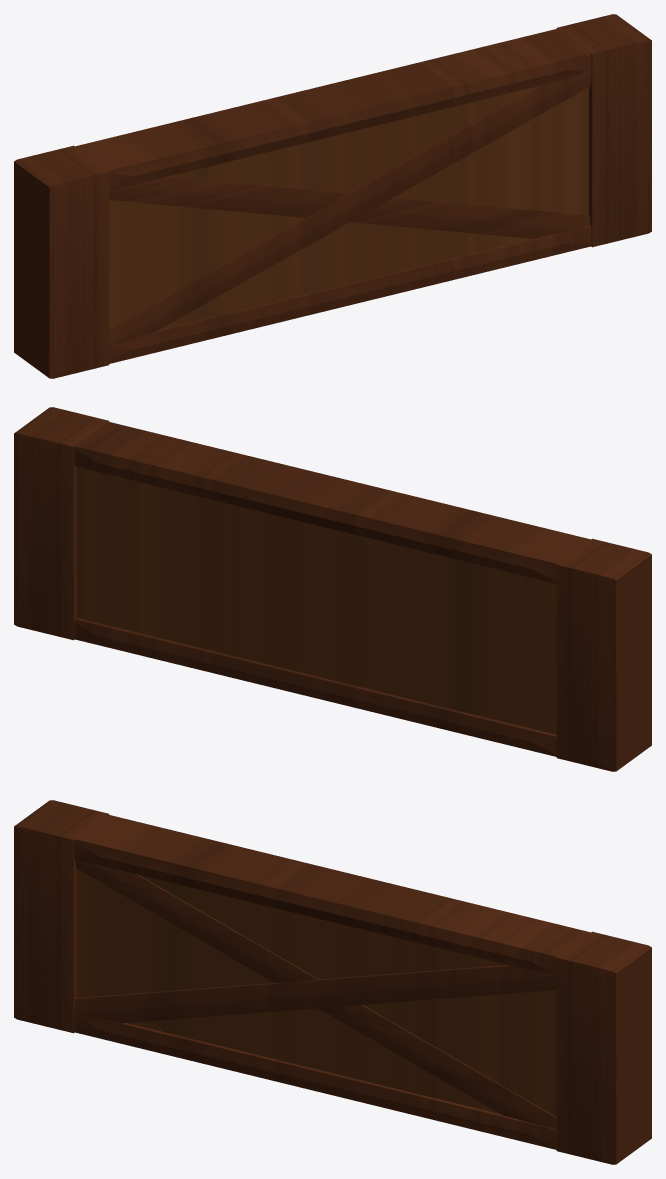
Rendered from Half_Half_Wall_X_Wood.fbx.
3 renders of one model, top to bottom at view 1: azimuth 30°, elevation 25°; view 2: azimuth 150°, elevation 25°; view 3: azimuth 330°, elevation 25°, orthographic.
Parts seen in each view (by area): view 1: Half_Half_Wall_X_Wood; view 2: Half_Half_Wall_X_Wood; view 3: Half_Half_Wall_X_Wood.
Part boxes in pixels (x1,y1,x2,y2): Half_Half_Wall_X_Wood: (14, 14, 651, 378); Half_Half_Wall_X_Wood: (14, 407, 651, 771); Half_Half_Wall_X_Wood: (14, 800, 651, 1164).
Size of the model in its own units: 212 by 64.99 by 23.4.
